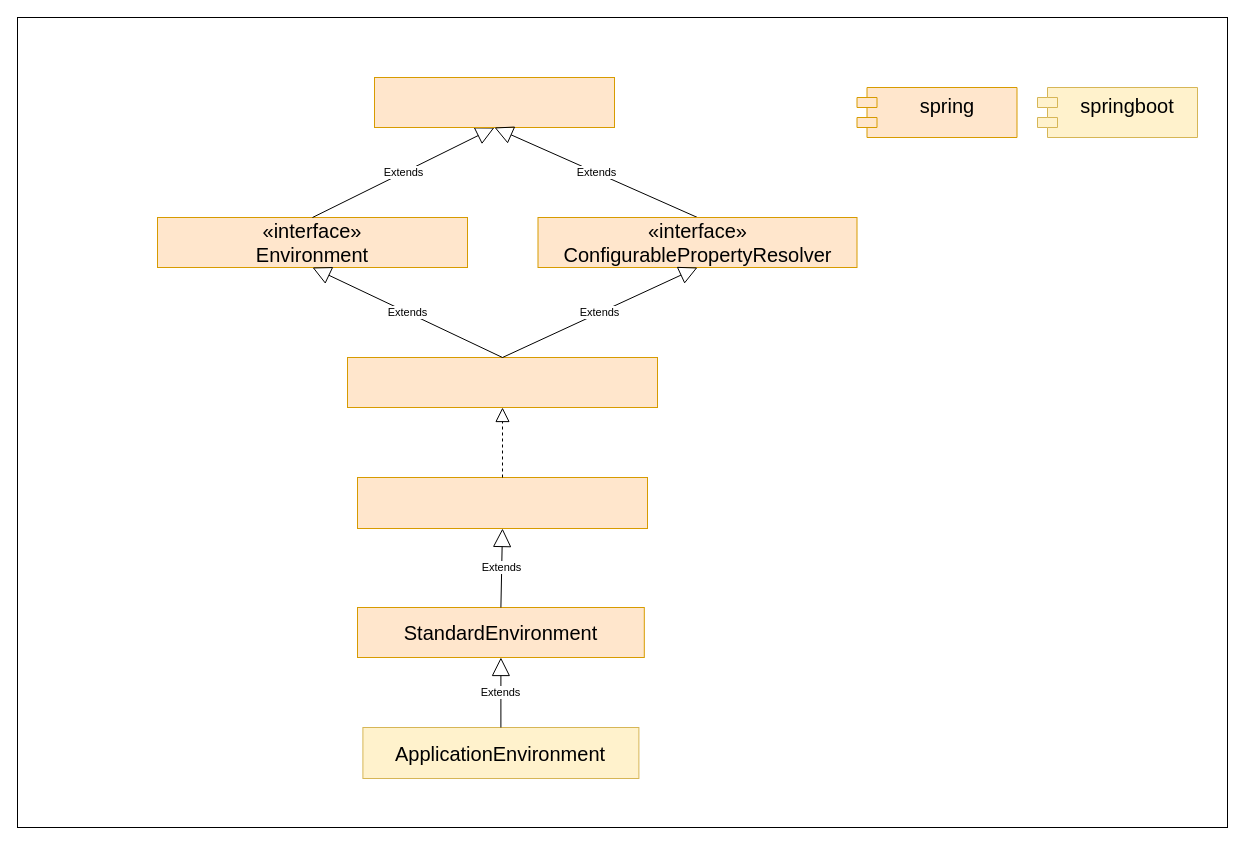
Some shapes in this 1245 by 845 pixel diagram are drawn without their labels. Each missing label, with the centre of its shape:
AbstractEnvironment: (x=502, y=502)
«interface» ConfigurableEnvironment: (x=502, y=382)
«interface» PropertyResolver: (x=494, y=102)
